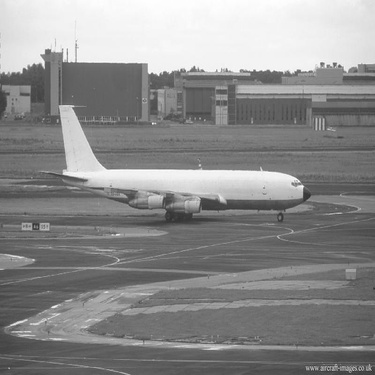airplane: (16, 92, 320, 227)
